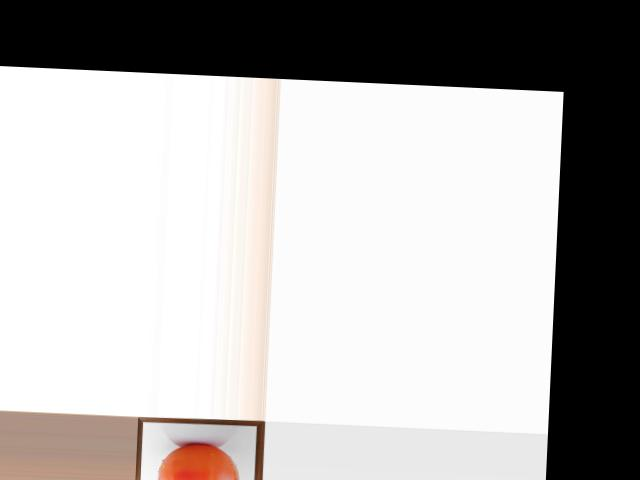tomato: (157, 441, 241, 480)
